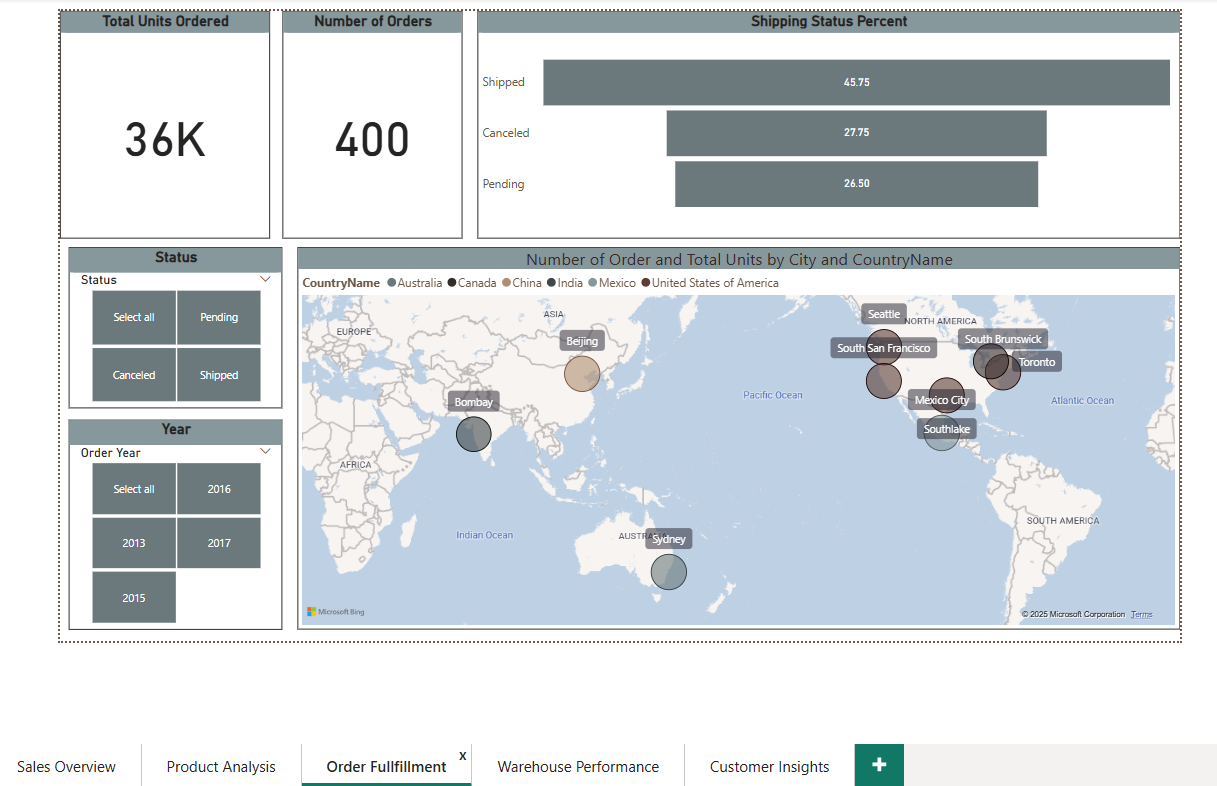

This screenshot's page, from the dashboard's own definition file:
{"tool":"powerbi","page":{"name":"Order Fullfillment","canvas":[1280,720],"ordinal":2},"visuals":[{"type":"card","title":"Total Units Ordered","fields":{"Values":["ML-Dataset.Total Units"]},"box":[0,0,240,260],"z":0},{"type":"card","title":"Number of Orders","fields":{"Values":["ML-Dataset.Number of Order"]},"box":[254.3,0,205.7,260],"z":1000},{"type":"slicer","title":"Status","fields":{"Values":["ML-Dataset.Status"]},"box":[10,270,244.3,184.3],"z":2000},{"type":"funnel","title":"Shipping Status Percent","fields":{"Category":["ML-Dataset.Status"],"Y":["ML-Dataset.StatusPercentage"]},"box":[477.1,0,802.9,260],"z":3000},{"type":"map","fields":{"Category":["ML-Dataset.City"],"Size":["ML-Dataset.Number of Order"],"Series":["ML-Dataset.CountryName"]},"box":[271.4,270,1008.6,437.1],"z":4000},{"type":"slicer","title":"Year","fields":{"Values":["ML-Dataset.Order Year"]},"box":[10,467.1,244.3,240],"z":5000}]}

Visuals, with their boxes on the page's 1280x720 design canvas (x1, y1, x2, y2). These are canvas units, not pixel positions in the 1217x786 screenshot, which may show the page scaled, cropped or inside an application window:
"Total Units Ordered" card: (0,0,240,260)
"Number of Orders" card: (254,0,460,260)
"Status" slicer: (10,270,254,454)
"Shipping Status Percent" funnel: (477,0,1280,260)
map - ML-Dataset.City x ML-Dataset.Number of Order: (271,270,1280,707)
"Year" slicer: (10,467,254,707)
